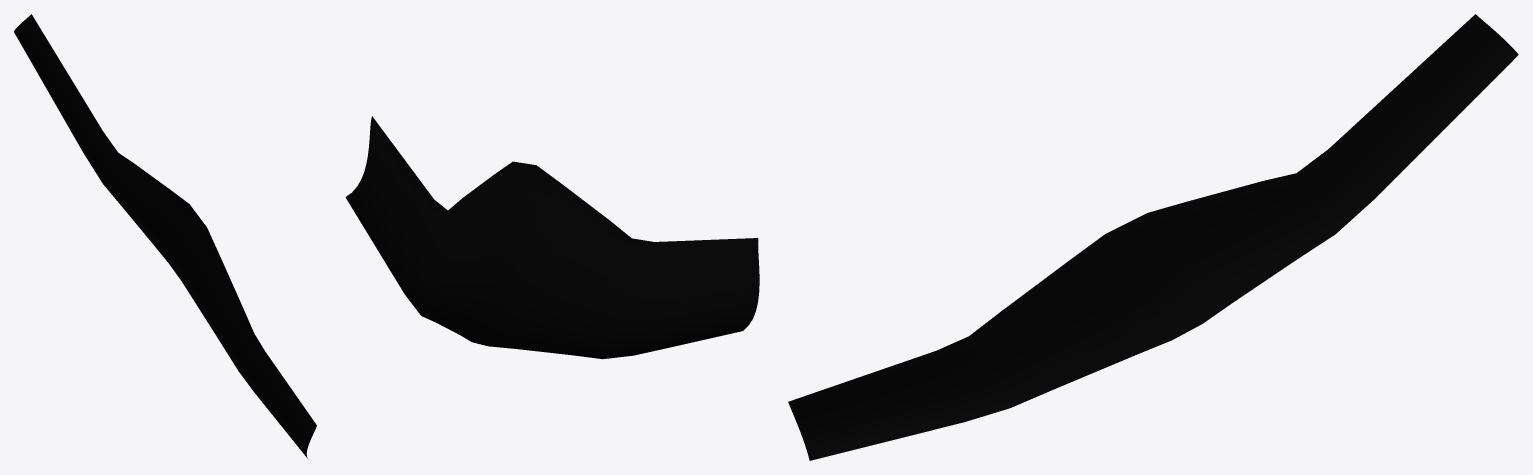
Rendered from hair.glb.
3 renders of one model, left to right at view 1: azimuth 30°, elevation 25°; view 2: azimuth 150°, elevation 25°; view 3: azimuth 270°, elevation 25°, orthographic. The views are drawn at different scales.
Parts seen in each view (by area): view 1: facialHair-jawFluff; view 2: facialHair-jawFluff; view 3: facialHair-jawFluff.
Boxes of the visible parts, x1,y1,x2,y2 form: facialHair-jawFluff: (14,14,316,458); facialHair-jawFluff: (345,116,759,359); facialHair-jawFluff: (788,14,1518,460).
Size of the model in its own units: 0.0305 by 0.1592 by 0.2543.
1 material, 1 textured.
